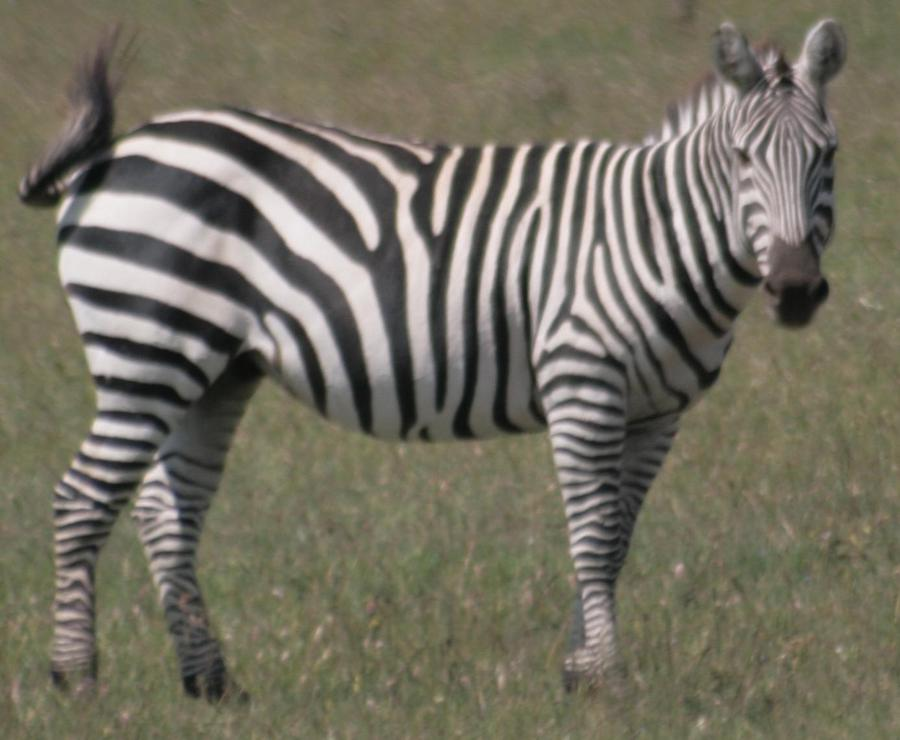zebra_plains: (23, 88, 722, 427)
